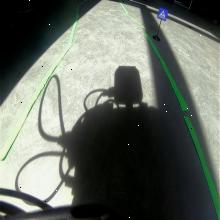crosswalk: (158, 7, 169, 21)
